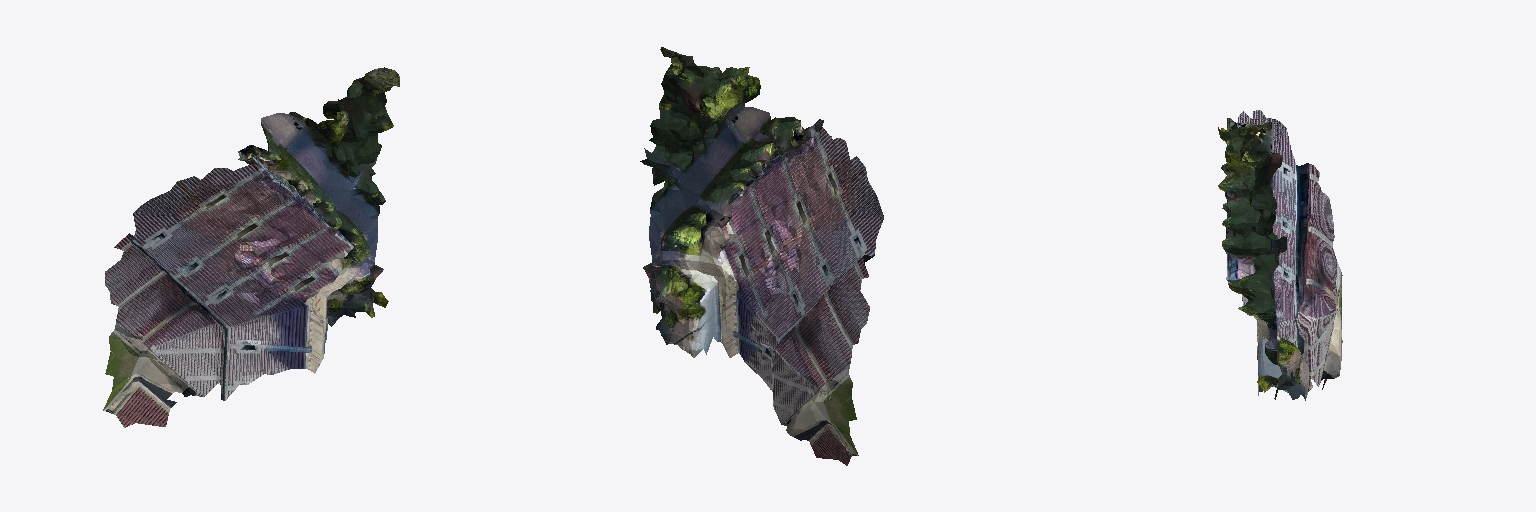
3 views of the same model, side by side, from view 1: azimuth 30°, elevation 25°; view 2: azimuth 150°, elevation 25°; view 3: azimuth 270°, elevation 25° (orthographic).
Bounding box in the file's own units: 70.98 × 90.73 × 30.3.
Materials: 1 (1 with a texture image).